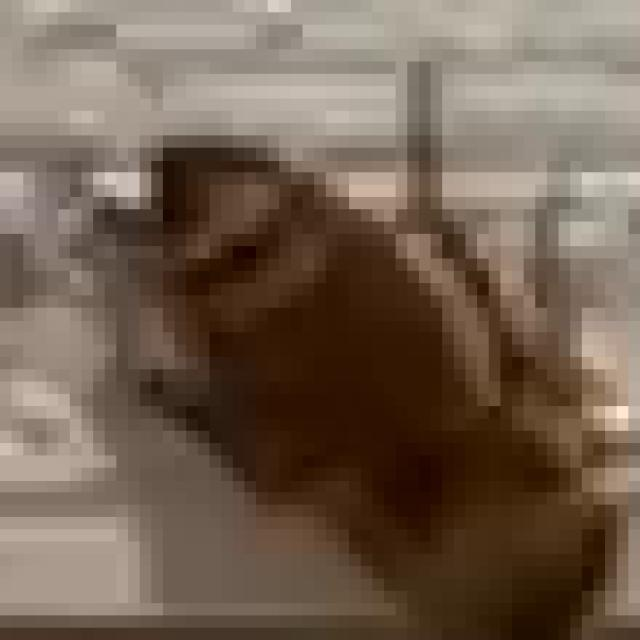honeybee: (87, 131, 622, 634)
